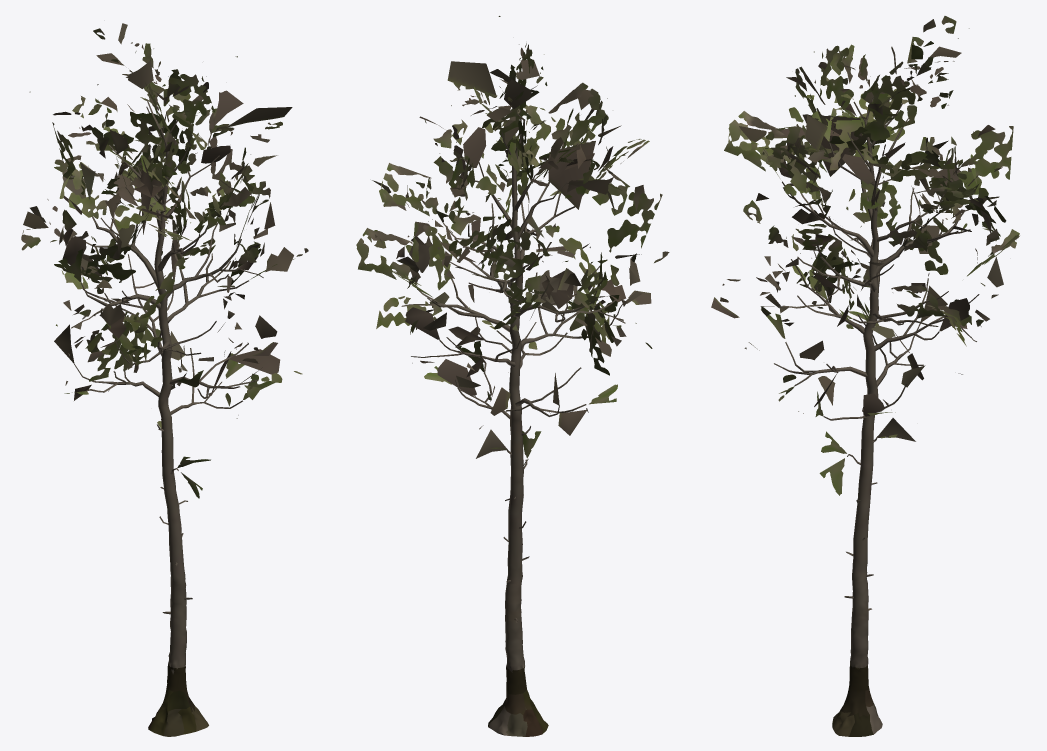
File: SM_BlackAlder_Forest_03_PP_LOD4.gltf
3 views of the same model, side by side, from view 1: azimuth 30°, elevation 25°; view 2: azimuth 150°, elevation 25°; view 3: azimuth 270°, elevation 25° (orthographic). The views are drawn at different scales.
Parts seen in each view (by area): view 1: SM_BlackAlder_Forest_03_PP; view 2: SM_BlackAlder_Forest_03_PP; view 3: SM_BlackAlder_Forest_03_PP.
Part boxes in pixels (x1,y1,x2,y2): SM_BlackAlder_Forest_03_PP: (21,23,308,736); SM_BlackAlder_Forest_03_PP: (356,16,669,736); SM_BlackAlder_Forest_03_PP: (711,16,1019,736).
Size of the model in its own units: 7.3 by 17.64 by 7.37.
4 materials, 4 textured.
